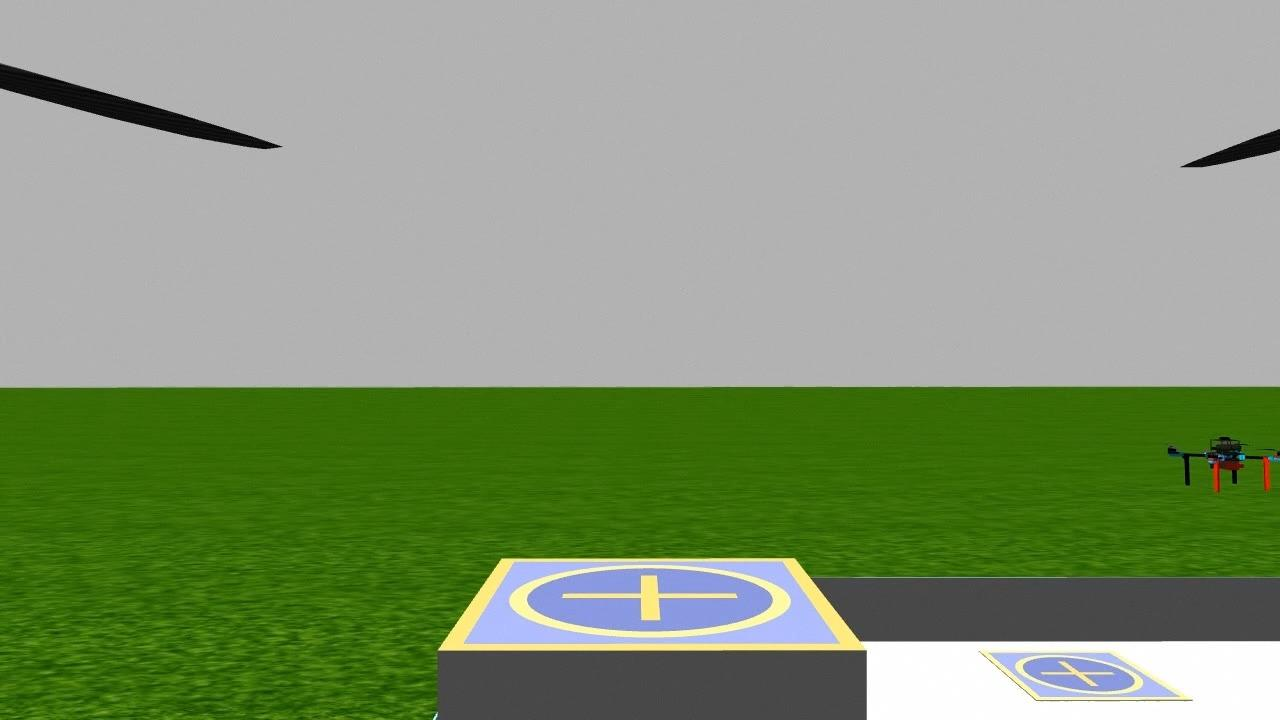UAV: (1152, 422, 1280, 498)
